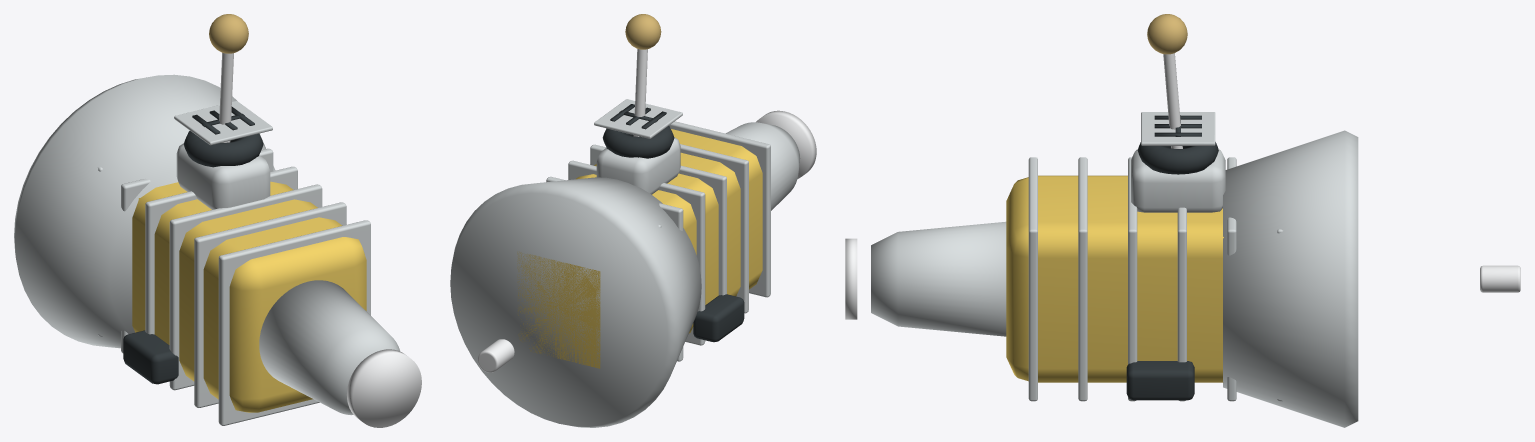
File: transmission_six.fbx
3 renders of one model, left to right at view 1: azimuth 30°, elevation 25°; view 2: azimuth 150°, elevation 25°; view 3: azimuth 270°, elevation 25°, orthographic. The views are drawn at different scales.
Parts seen in each view (by area): view 1: transmission_six; view 2: transmission_six; view 3: transmission_six.
Boxes of the visible parts, x1,y1,x2,y2 form: transmission_six: (14, 14, 421, 427); transmission_six: (450, 14, 816, 427); transmission_six: (845, 14, 1520, 427).
Size of the model in its own units: 44 by 64.94 by 99.8.
